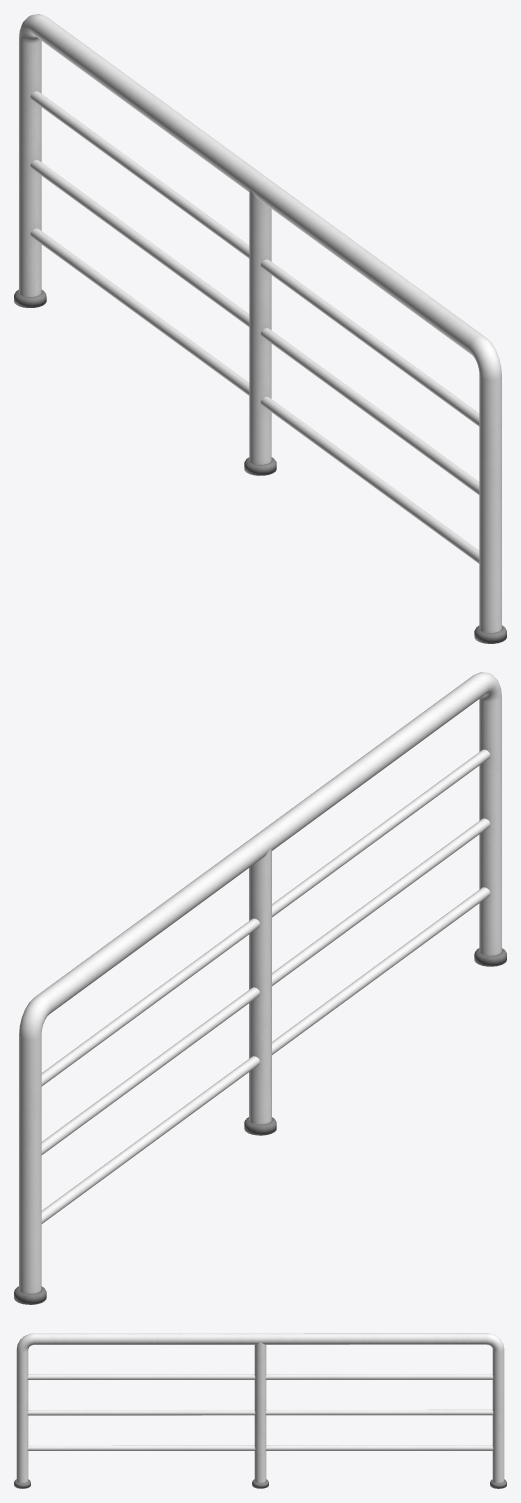
The model's file is SM_078_Guardrail_05.fbx.
3 renders of one model, top to bottom at view 1: azimuth 30°, elevation 25°; view 2: azimuth 150°, elevation 25°; view 3: azimuth 270°, elevation 25°, orthographic. The views are drawn at different scales.
Parts seen in each view (by area): view 1: SM_078_Guardrail_05; view 2: SM_078_Guardrail_05; view 3: SM_078_Guardrail_05.
Part boxes in pixels (x1,y1,x2,y2): SM_078_Guardrail_05: (14, 14, 506, 643); SM_078_Guardrail_05: (14, 672, 506, 1304); SM_078_Guardrail_05: (14, 1333, 506, 1488).
Bounding box in the file's own units: 9.64 × 273 × 92.77.
Materials: 1 (1 with a texture image).
